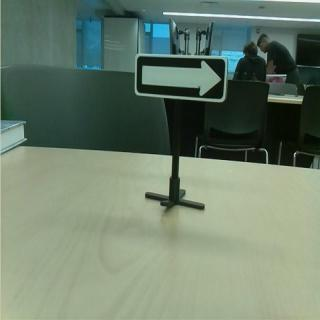sign_oneway_right: (135, 53, 231, 105)
